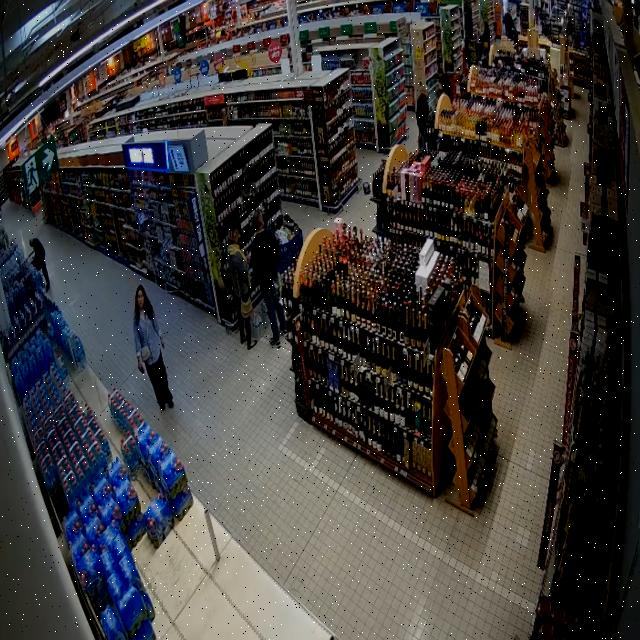bags: (241, 297, 252, 318), (141, 346, 151, 362)
hands: (138, 357, 144, 373), (246, 252, 251, 268), (160, 338, 164, 348)
person: (134, 286, 173, 410), (251, 211, 286, 347), (228, 226, 257, 349), (30, 238, 50, 290)
